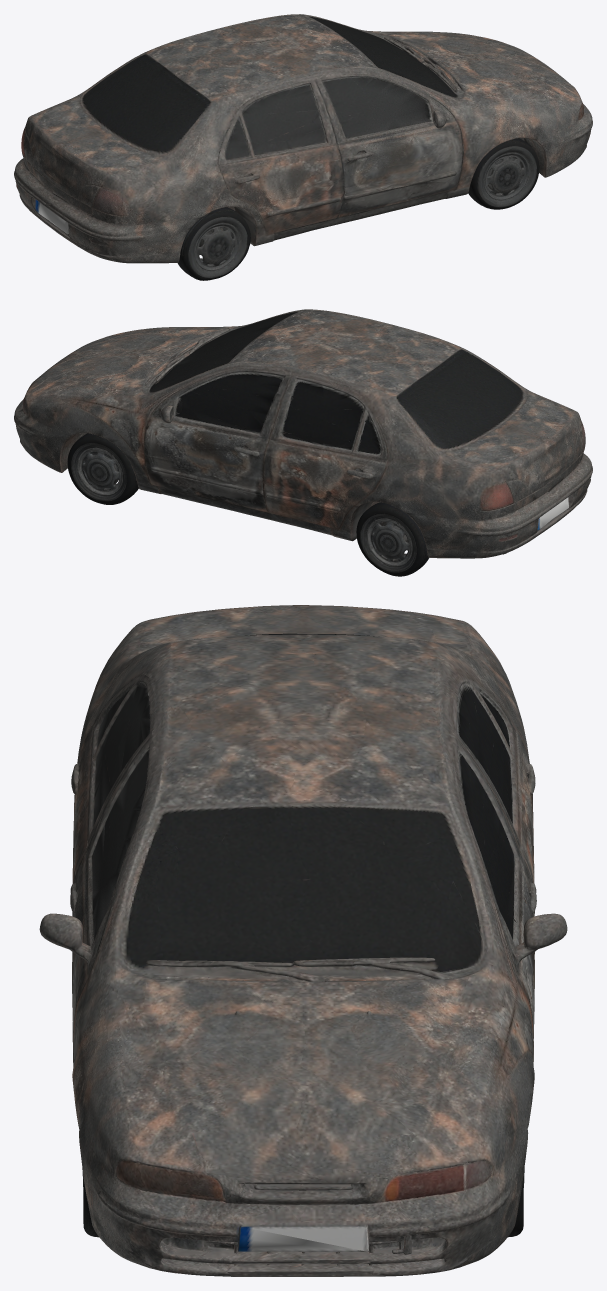
The model's file is barao-queimado__01a16dcf.glb.
The picture shows the model from 3 angles, top to bottom: view 1: azimuth 30°, elevation 25°; view 2: azimuth 150°, elevation 25°; view 3: azimuth 270°, elevation 25°; orthographic projection. The views are drawn at different scales.
Parts seen in each view (by area): view 1: barao-queimado; view 2: barao-queimado; view 3: barao-queimado.
Boxes of the visible parts, x1,y1,x2,y2 form: barao-queimado: (14, 14, 592, 280); barao-queimado: (14, 309, 592, 576); barao-queimado: (39, 605, 567, 1276).
Bounding box in the file's own units: 4.39 × 1.38 × 1.95.
Materials: 1 (1 with a texture image).
